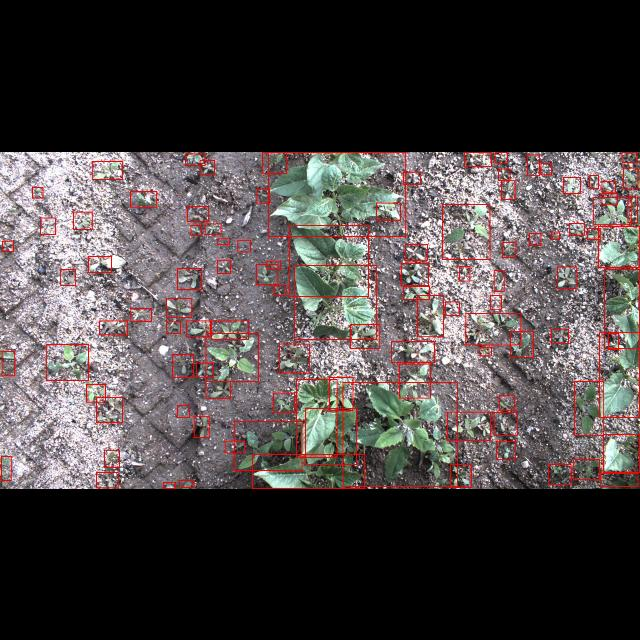crop: (268, 152, 406, 236), (294, 264, 376, 340), (290, 224, 368, 296), (252, 454, 364, 488), (600, 332, 640, 416), (296, 379, 338, 457), (604, 268, 640, 348), (306, 408, 356, 464), (598, 226, 640, 266), (603, 434, 639, 472)
weed: (343, 382, 457, 486), (234, 422, 302, 471), (206, 332, 258, 382), (442, 204, 490, 258), (466, 314, 520, 344), (574, 381, 604, 435), (46, 344, 88, 380), (448, 412, 490, 441), (418, 296, 444, 336), (400, 363, 430, 397), (594, 196, 630, 224), (392, 341, 434, 362), (280, 343, 310, 372), (329, 376, 353, 409), (212, 320, 248, 340), (350, 324, 380, 348), (96, 398, 122, 422), (402, 262, 428, 286), (511, 331, 534, 357), (92, 160, 122, 178), (574, 459, 600, 479), (451, 464, 472, 488), (172, 354, 194, 376), (494, 412, 516, 434), (177, 268, 201, 288), (262, 152, 286, 172), (548, 464, 572, 484), (166, 298, 192, 316), (600, 474, 638, 486), (256, 264, 278, 284), (557, 266, 577, 288), (376, 202, 400, 220), (131, 190, 157, 206), (274, 392, 294, 412), (496, 440, 516, 460), (464, 151, 492, 165), (99, 320, 127, 334), (206, 382, 230, 398), (186, 320, 210, 336), (88, 256, 112, 272), (404, 285, 430, 299), (405, 243, 427, 259), (96, 472, 118, 488), (86, 384, 105, 402), (2, 350, 15, 376), (624, 166, 638, 188), (40, 216, 56, 234), (74, 212, 92, 228), (194, 416, 208, 436), (188, 206, 208, 220), (104, 449, 120, 466), (130, 308, 152, 320), (628, 196, 638, 222), (564, 177, 580, 193), (60, 269, 76, 285), (552, 328, 568, 344), (196, 362, 214, 376), (501, 180, 515, 198), (527, 153, 539, 174), (1, 456, 11, 480), (185, 153, 205, 165), (225, 441, 245, 453), (500, 394, 514, 410), (404, 170, 421, 183), (494, 270, 504, 290), (200, 159, 214, 173), (256, 188, 270, 202), (502, 242, 516, 256), (445, 301, 459, 315), (205, 222, 221, 234), (602, 192, 618, 204), (166, 321, 180, 333), (218, 259, 230, 273), (570, 222, 584, 234), (608, 333, 618, 349), (491, 295, 502, 309), (238, 239, 250, 251), (540, 162, 552, 174), (177, 405, 189, 417), (460, 266, 470, 280), (602, 181, 616, 191), (622, 151, 636, 161), (498, 168, 509, 180), (274, 284, 286, 294), (495, 152, 507, 162), (588, 228, 600, 238), (530, 233, 540, 245), (2, 240, 14, 250), (33, 186, 43, 198), (267, 260, 281, 268), (180, 480, 194, 488), (590, 175, 598, 188), (191, 225, 201, 235), (480, 347, 492, 355), (163, 482, 175, 488), (552, 231, 560, 239), (218, 238, 228, 244)
